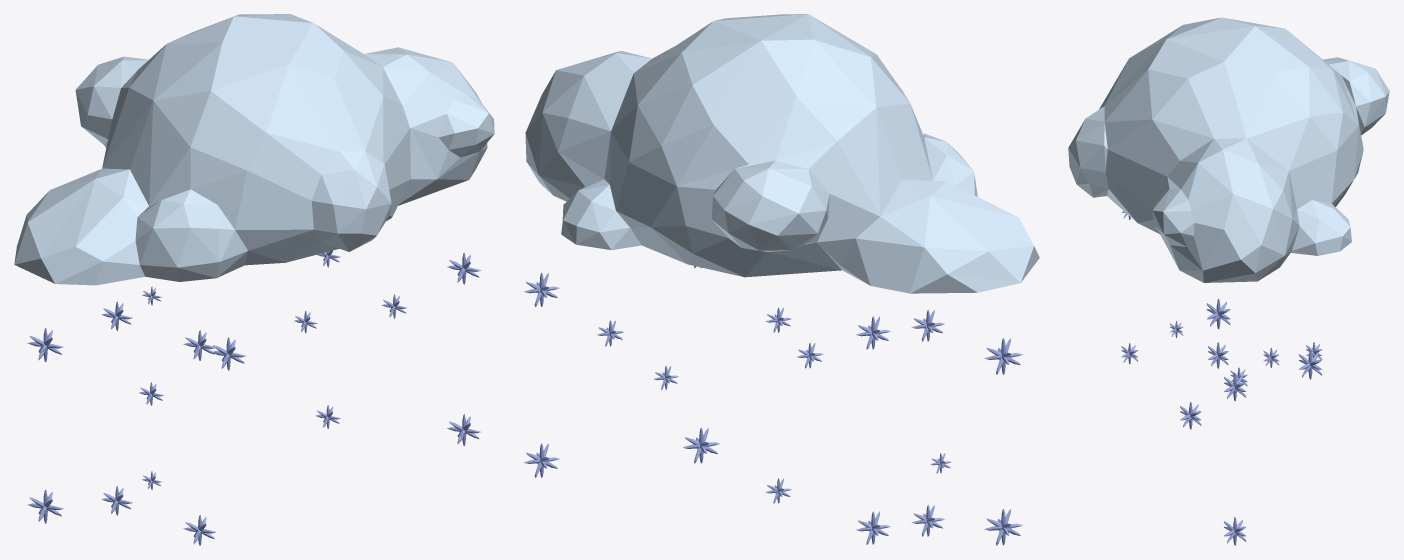
Rendered from Snow2.gltf.
3 renders of one model, left to right at view 1: azimuth 30°, elevation 25°; view 2: azimuth 150°, elevation 25°; view 3: azimuth 270°, elevation 25°, orthographic. The views are drawn at different scales.
Visible parts, largest first — view 1: Icosphere.005; view 2: Icosphere.005; view 3: Icosphere.005.
Boxes of the visible parts, x1,y1,x2,y2 form: Icosphere.005: [14, 14, 494, 285]; Icosphere.005: [525, 14, 1039, 293]; Icosphere.005: [1068, 17, 1389, 282].
Size of the model in its own units: 3.36 by 3.37 by 2.26.
